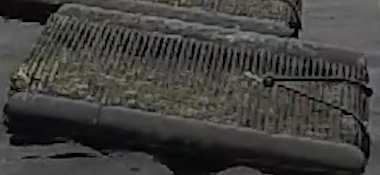bag: (3, 4, 374, 175)
